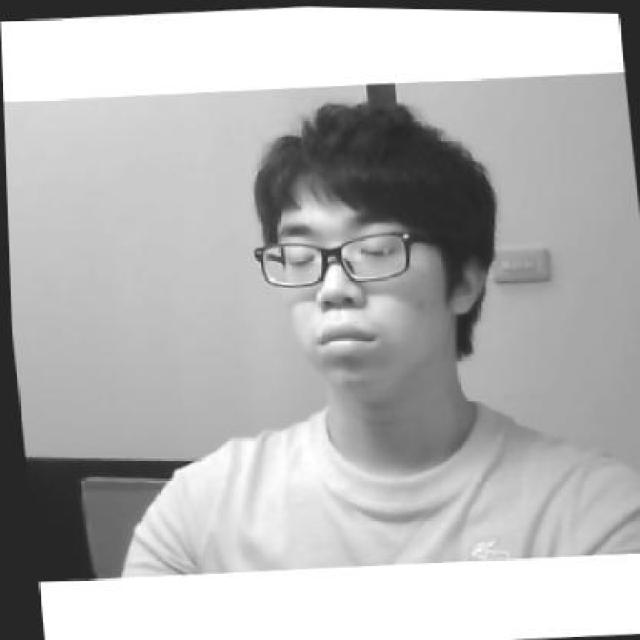inattentif: (237, 89, 492, 406)
